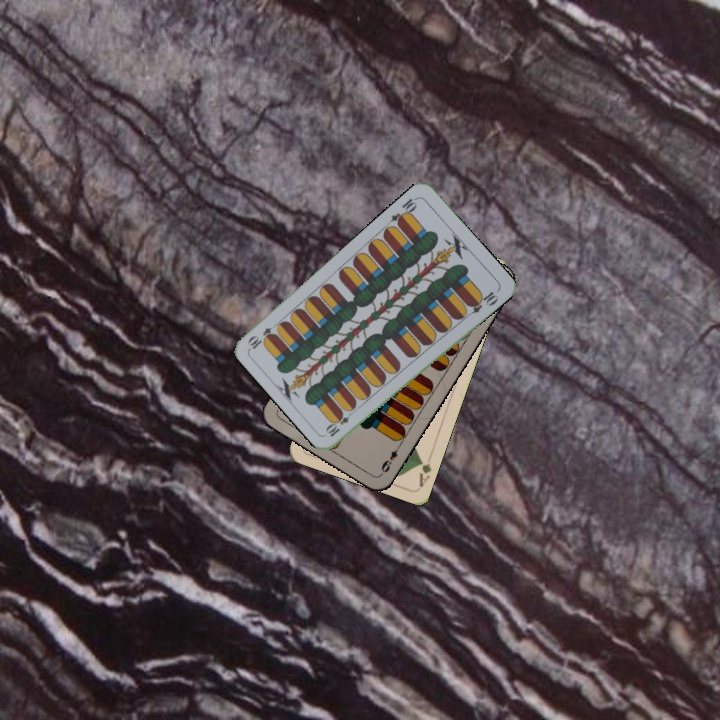E10: (322, 406, 357, 439), (387, 193, 420, 228)
E9: (377, 440, 403, 477)
GA: (415, 450, 435, 490)
